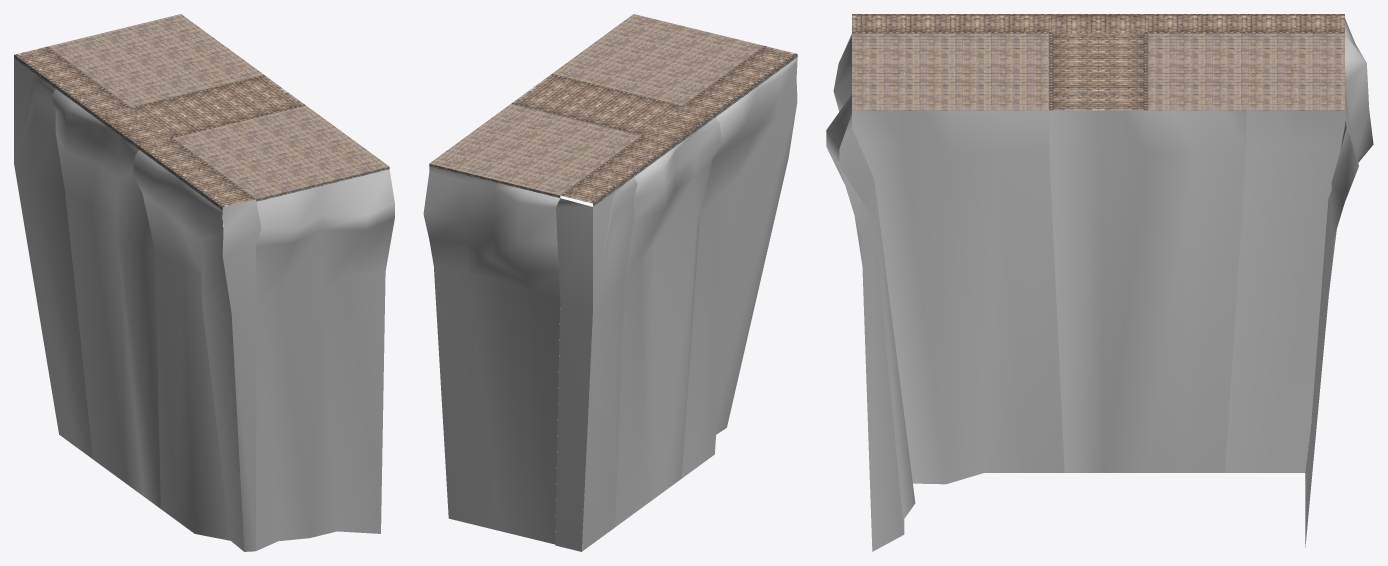
File: shancemianpingtai.FBX
3 renders of one model, left to right at view 1: azimuth 30°, elevation 25°; view 2: azimuth 150°, elevation 25°; view 3: azimuth 270°, elevation 25°, orthographic. The views are drawn at different scales.
Visible parts, largest first — view 1: Plane01; view 2: Plane01; view 3: Plane01.
Part boxes in pixels (x1,y1,x2,y2): Plane01: [14, 14, 394, 551]; Plane01: [423, 14, 797, 551]; Plane01: [826, 14, 1373, 551].
Bounding box in the file's own units: 602 × 1209 × 1353.
